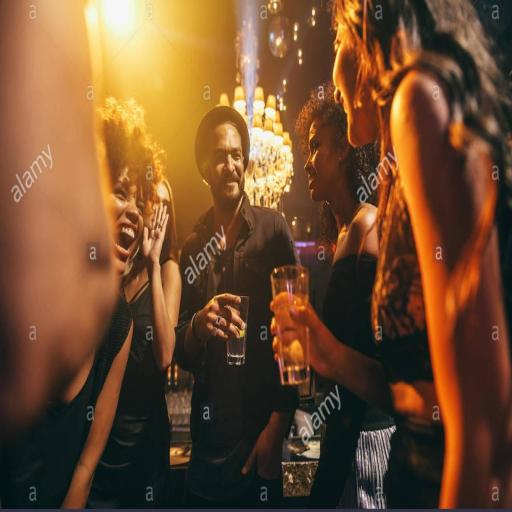person: (295, 0, 511, 507), (0, 120, 155, 508), (0, 1, 117, 441), (176, 106, 299, 507), (88, 101, 181, 508), (296, 82, 378, 357)
